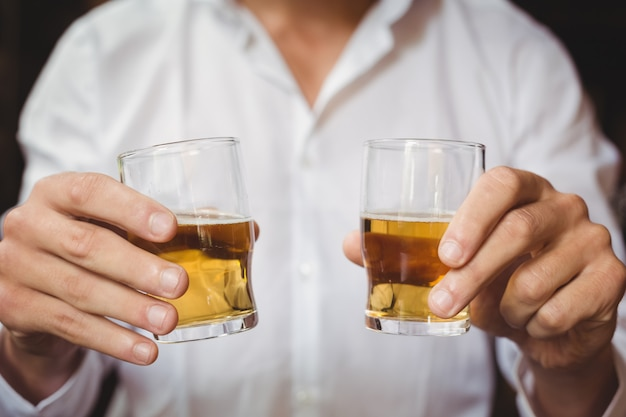alcohol: (113, 136, 259, 345), (359, 136, 488, 339)
